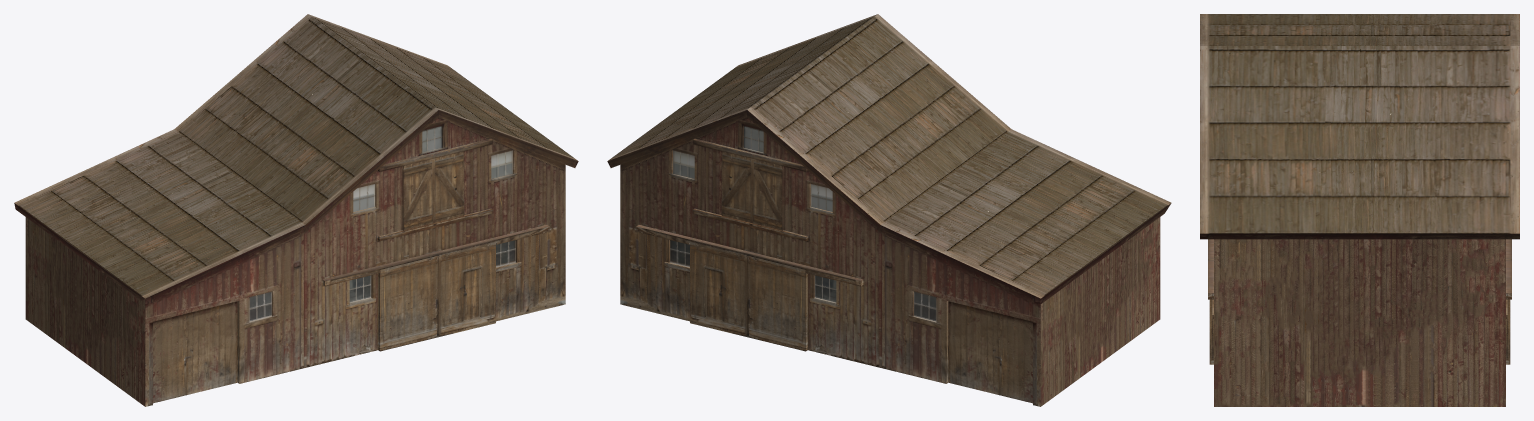
3 views of the same model, side by side, from view 1: azimuth 30°, elevation 25°; view 2: azimuth 150°, elevation 25°; view 3: azimuth 270°, elevation 25° (orthographic). The views are drawn at different scales.
Parts seen in each view (by area): view 1: barn; view 2: barn; view 3: barn.
Part boxes in pixels (bbox=[...]): barn: bbox=[14, 14, 578, 406]; barn: bbox=[607, 14, 1171, 406]; barn: bbox=[1200, 14, 1519, 406].
Size of the model in its own units: 13.59 by 6.92 by 7.11.
Materials: 1 (1 with a texture image).
